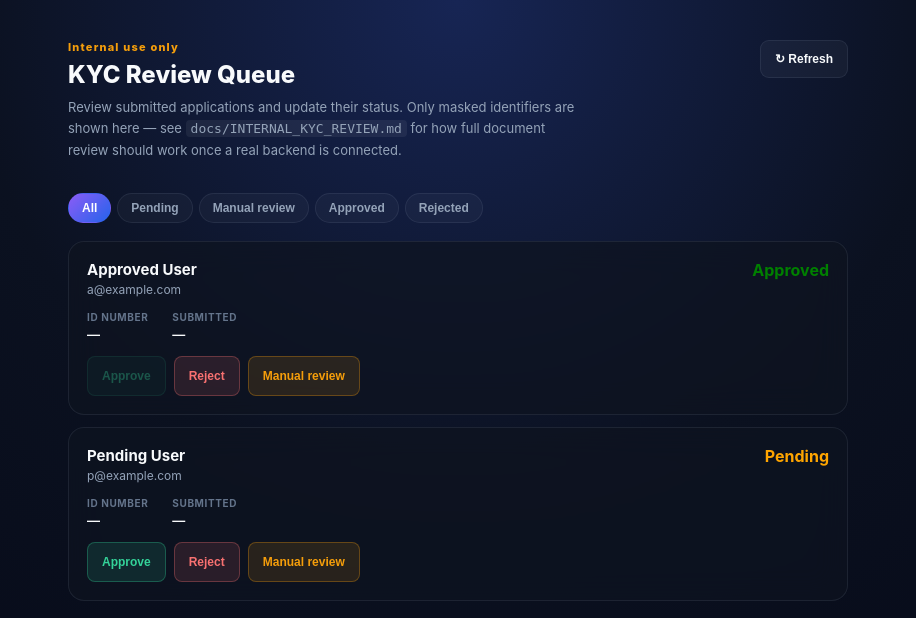
KYCReviewScreen › filters submissions by status
Expected: the text "Approved User" is shown, [87,260,197,279]
Expected: the text "Pending User" is shown, [87,446,185,465]
Click the button "Approved".
click(357, 208)  # box [315,193,399,223]
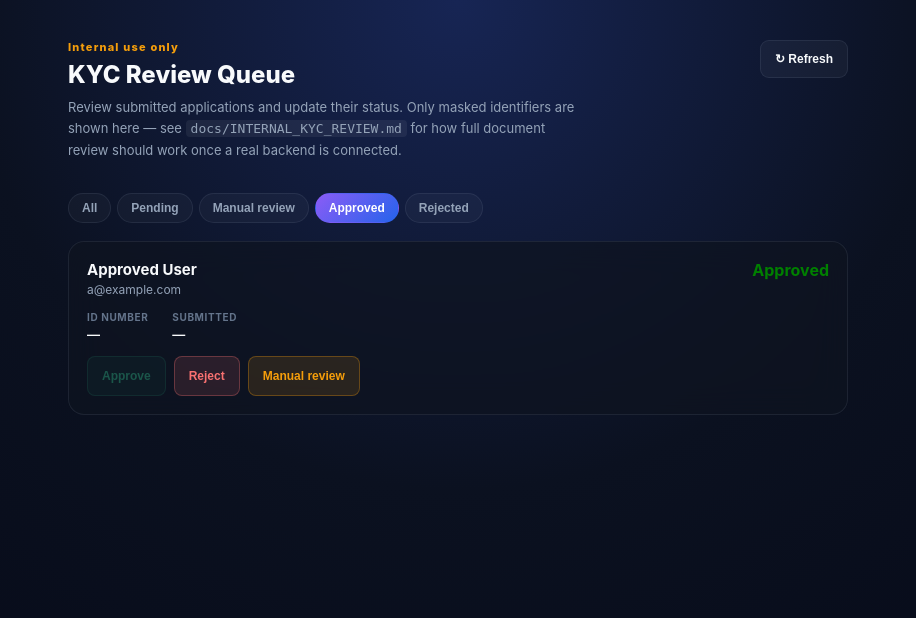
Expected: the text "Approved User" is shown, [87,260,197,279]
Expected: the text "Pending User" is gone
